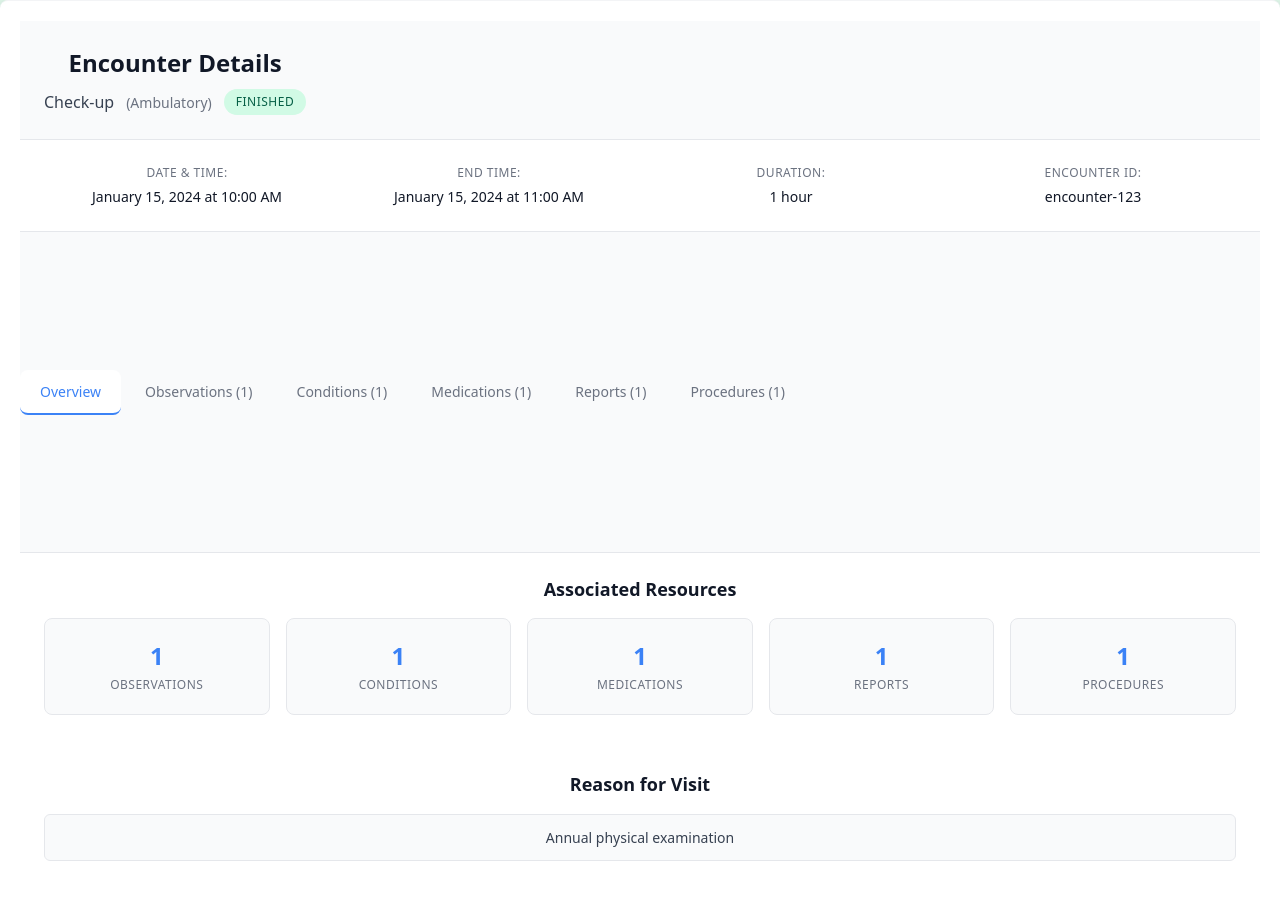
EncounterDetails › opens resource detail modal when resource is selected
# Click on observations tab
Click the button "Observations (1)": (199, 392) top-left (125, 370), bottom-right (273, 414)
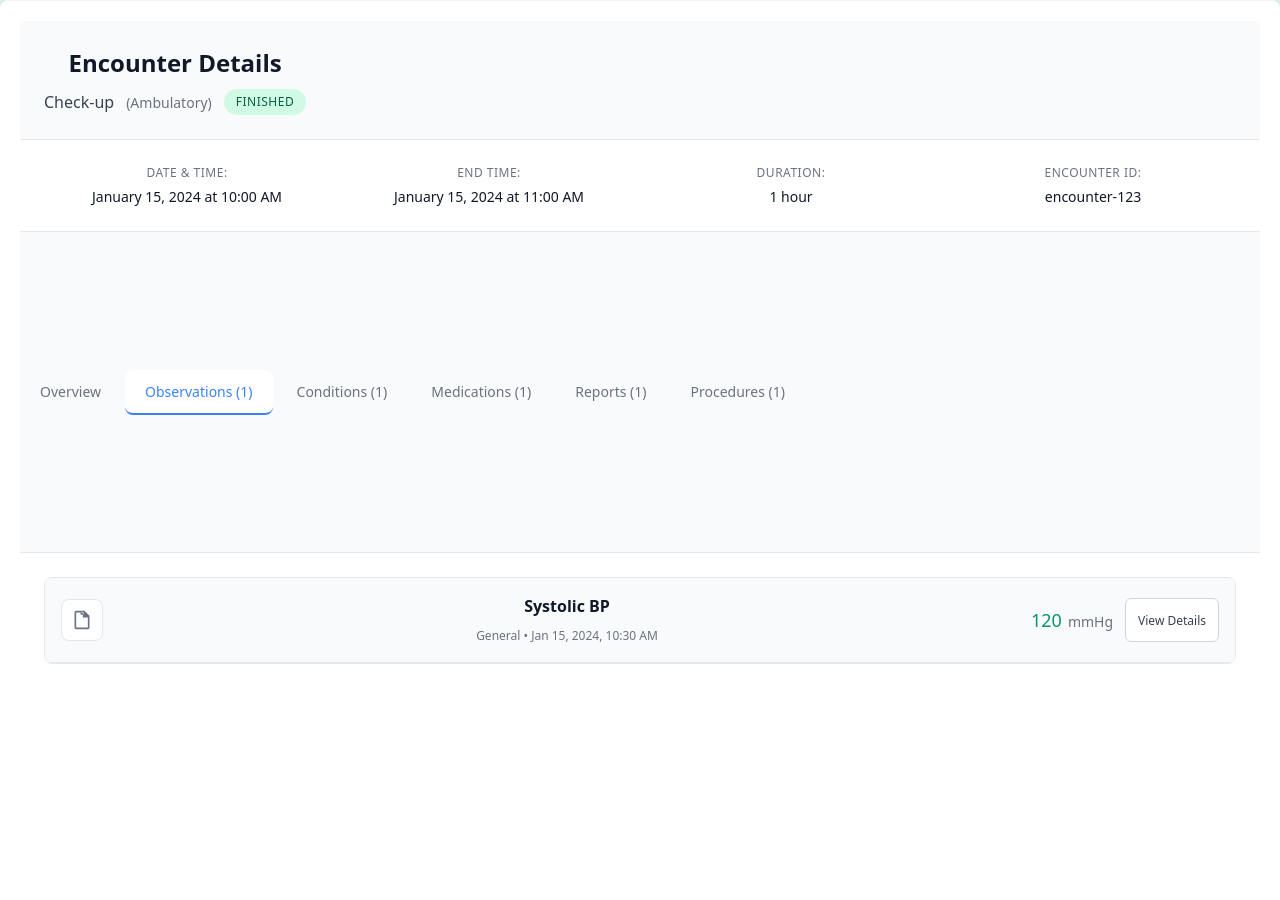
Now the heading "Systolic BP" is shown, box top-left (524, 595), bottom-right (610, 617)
# Click on view details button
Click the button "View Details": (1172, 620) top-left (1125, 598), bottom-right (1219, 642)
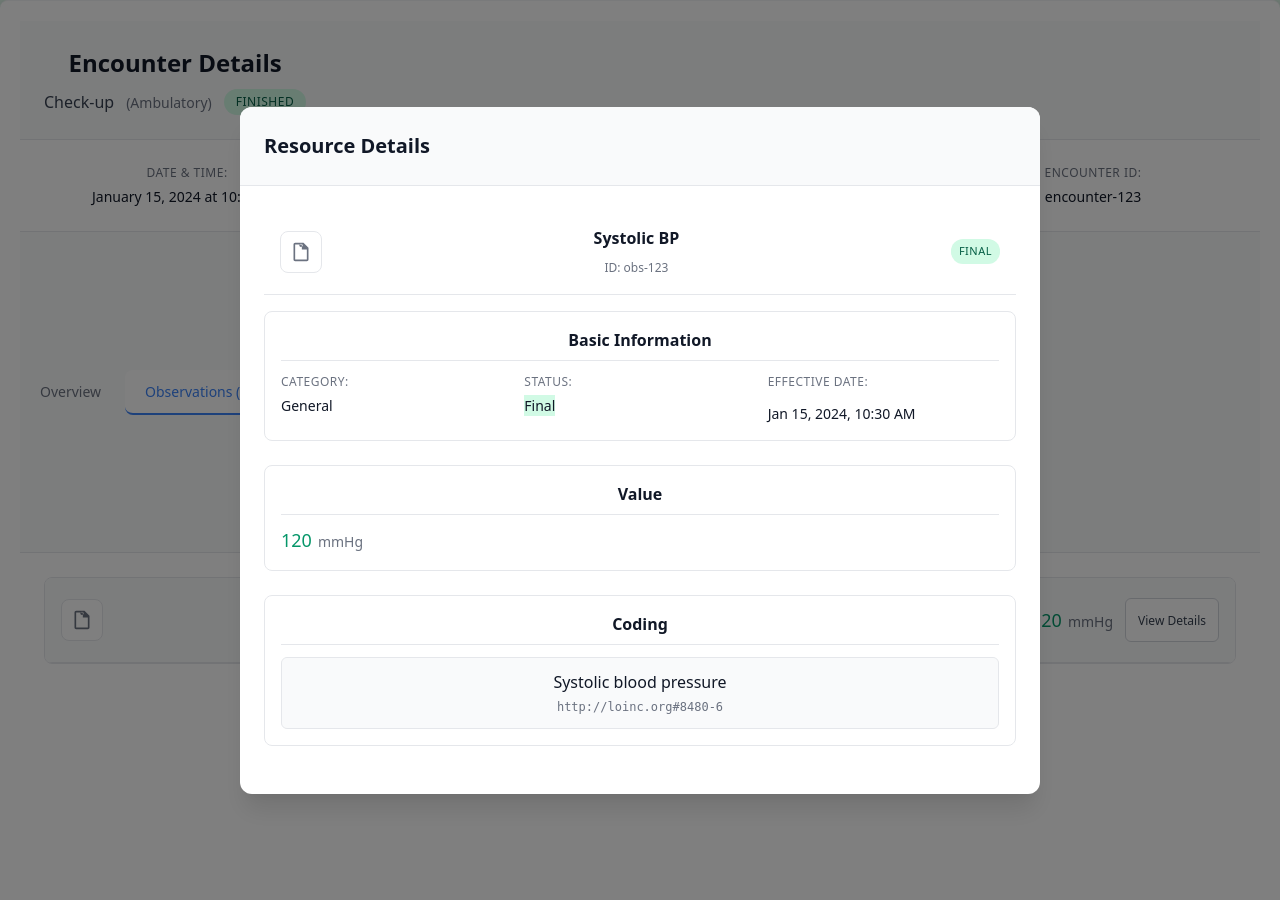
Now the heading "Resource Details" is shown, box top-left (264, 130), bottom-right (430, 160)
